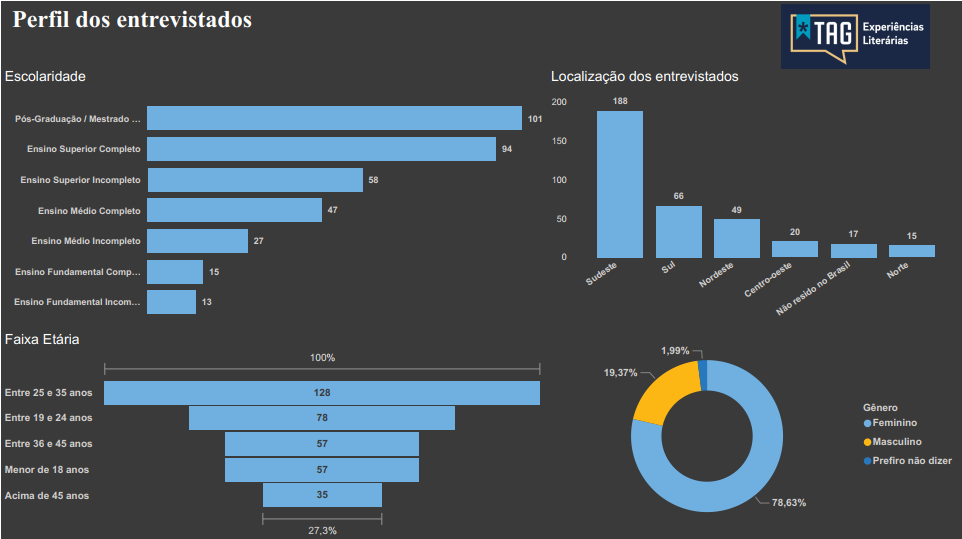

The page's visual inventory and layout, read from the dashboard file:
{"tool":"powerbi","page":{"name":"Geral","canvas":[1280,720],"ordinal":0},"visuals":[{"type":"textbox","box":[10.1,0,729,58.8],"z":0},{"type":"donutChart","title":"Gênero","fields":{"Category":["Base.Com qual gênero você se identifica?"],"Y":["CountNonNull(Base.Com qual gênero você se identifica?)"]},"box":[727.2,437.8,553,282.2],"z":1000},{"type":"funnel","title":"Faixa Etária","fields":{"Category":["Base.Qual a sua idade"],"Y":["CountNonNull(Base.Qual a sua idade)"]},"box":[0,438.5,726.8,280.5],"z":2000},{"type":"clusteredColumnChart","title":"Localização dos entrevistados","fields":{"Category":["Base.Em qual região você reside?"],"Y":["CountNonNull(Base.Em qual região você reside?)"]},"box":[726.8,89.9,553.2,348.7],"z":3000},{"type":"barChart","title":"Escolaridade","fields":{"Category":["Base.Qual seu grau de escolaridade?"],"Y":["CountNonNull(Base.Qual seu grau de escolaridade?)"]},"box":[0,89.9,726.8,348.7],"z":4000},{"type":"image","box":[993.4,0,286.6,95],"z":5000}]}

Visuals, with their boxes in screenshot pixels (x1, y1, x2, y2), scaled from the page's 1280x720 canvas onto the 962x539 screenshot:
textbox: bbox(8, 0, 555, 44)
"Gênero" donutChart: bbox(547, 328, 961, 538)
"Faixa Etária" funnel: bbox(0, 328, 546, 538)
"Localização dos entrevistados" clusteredColumnChart: bbox(546, 67, 961, 328)
"Escolaridade" barChart: bbox(0, 67, 546, 328)
image: bbox(747, 0, 961, 71)
